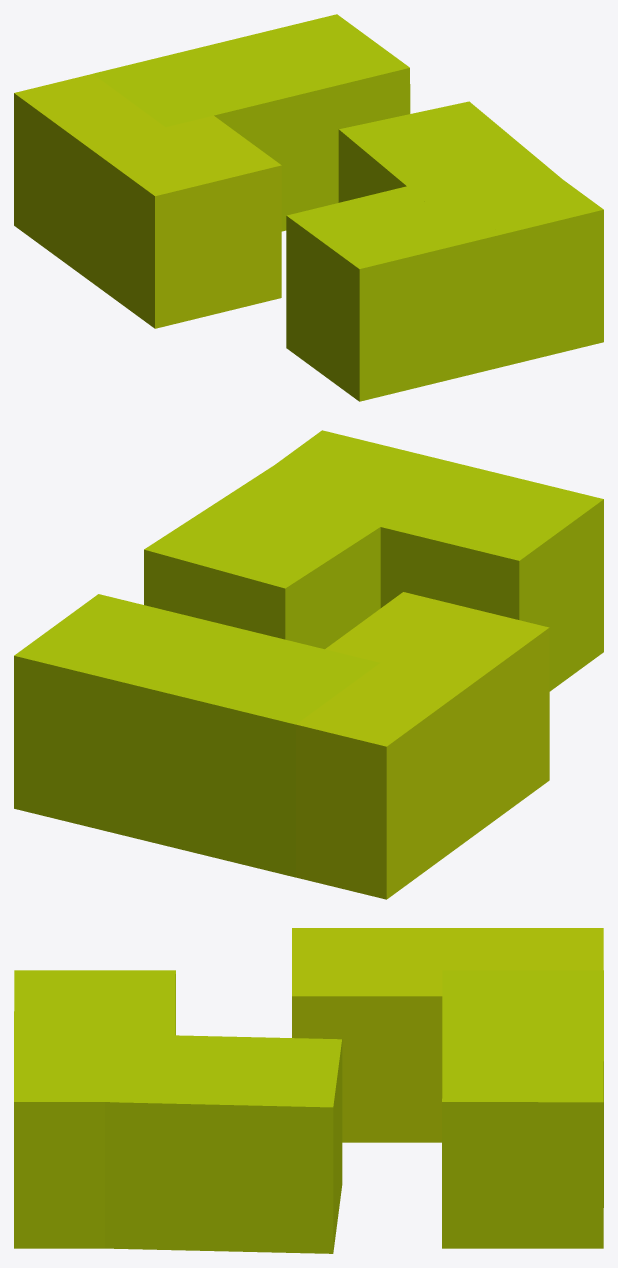
File: Rune7NoStone.fbx
3 views of the same model, one above another, from view 1: azimuth 30°, elevation 25°; view 2: azimuth 150°, elevation 25°; view 3: azimuth 270°, elevation 25° (orthographic). The views are drawn at different scales.
Visible parts, largest first — view 1: Cube.002, Cube, Cube.001, Cube.003; view 2: Cube.001, Cube, Cube.002, Cube.003; view 3: Cube.003, Cube.001, Cube, Cube.002.
Part boxes in pixels (bbox=[...]): Cube.002: bbox=[286, 156, 603, 401]; Cube: bbox=[14, 74, 281, 328]; Cube.001: bbox=[93, 14, 410, 231]; Cube.003: bbox=[338, 101, 560, 235]; Cube.001: bbox=[14, 594, 379, 877]; Cube: bbox=[296, 592, 549, 899]; Cube.002: bbox=[238, 430, 603, 691]; Cube.003: bbox=[144, 453, 462, 649]; Cube.003: bbox=[26, 1032, 342, 1253]; Cube.001: bbox=[442, 970, 603, 1248]; Cube: bbox=[292, 928, 603, 1142]; Cube.002: bbox=[14, 970, 175, 1248].
Size of the model in its own units: 82.4 by 31.37 by 115.
